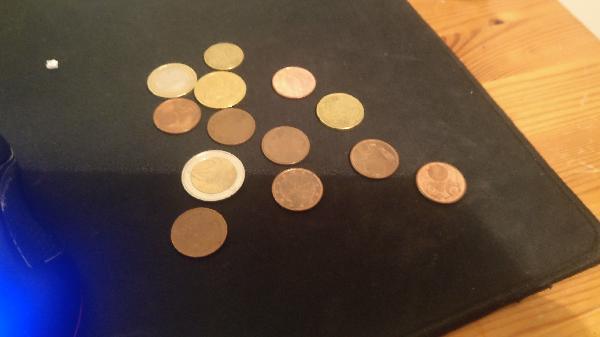Fifty Cent: (196, 71, 248, 110)
Five Cent: (168, 205, 229, 257), (271, 167, 326, 215), (417, 160, 472, 206), (349, 138, 398, 179), (261, 127, 311, 166), (207, 107, 257, 144), (153, 98, 202, 134), (272, 64, 315, 98)
One Euro: (147, 62, 197, 99)
Ten Cent: (203, 42, 245, 71)
Twenty Cent: (314, 87, 370, 129)
Two Euro: (184, 148, 244, 198)
